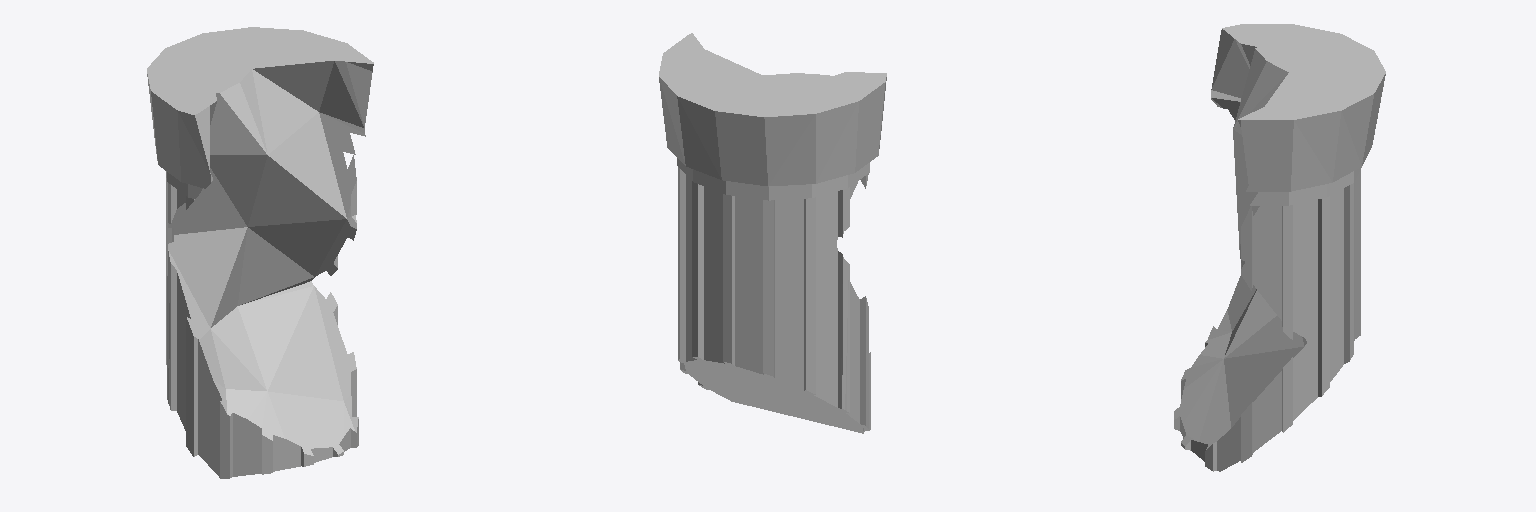
Rendered from kolumna_top.obj.
3 renders of one model, left to right at view 1: azimuth 30°, elevation 25°; view 2: azimuth 150°, elevation 25°; view 3: azimuth 270°, elevation 25°, orthographic.
Parts seen in each view (by area): view 1: Cylinder.001; view 2: Cylinder.001; view 3: Cylinder.001.
Boxes of the visible parts, box(x1,y1,x2,y2) form: Cylinder.001: box(147, 27, 373, 478); Cylinder.001: box(659, 33, 886, 433); Cylinder.001: box(1174, 24, 1385, 471).
Size of the model in its own units: 5.62 by 10.06 by 5.27.